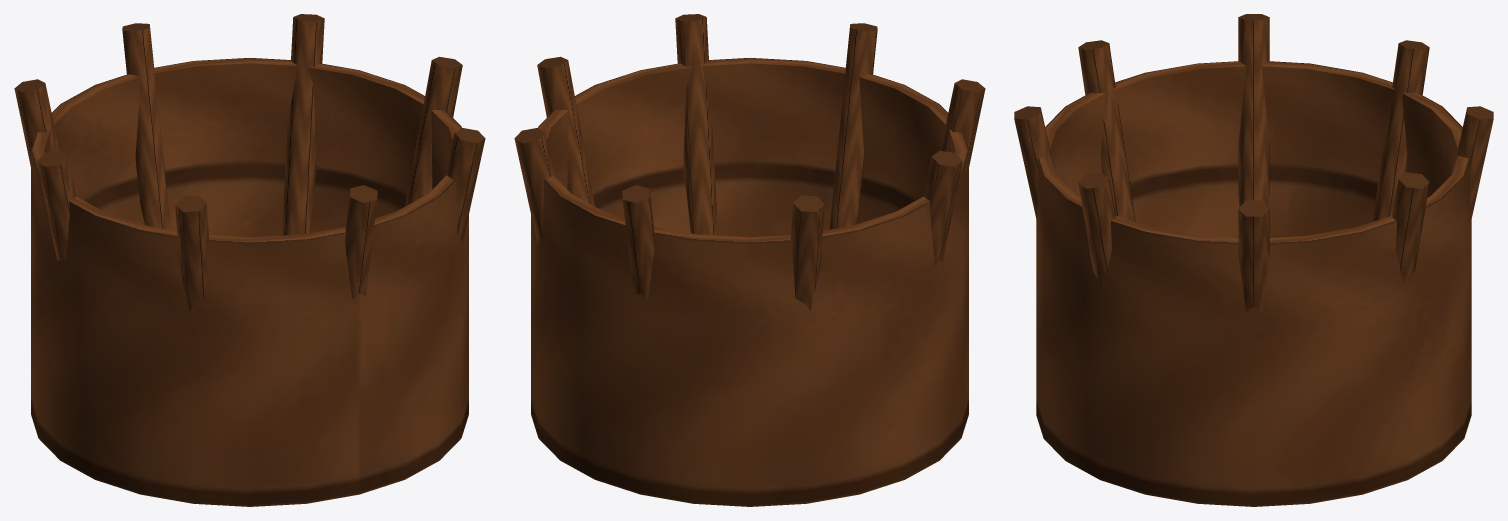
File: primitive-crafting-workshop-basket-form-f693e271__21573.glb
The picture shows the model from 3 angles, left to right: view 1: azimuth 30°, elevation 25°; view 2: azimuth 150°, elevation 25°; view 3: azimuth 270°, elevation 25°; orthographic projection.
Parts seen in each view (by area): view 1: basket-form; view 2: basket-form; view 3: basket-form.
Part boxes in pixels (left/top/right/bottom): basket-form: left=14, top=14, right=485, bottom=506; basket-form: left=514, top=14, right=985, bottom=506; basket-form: left=1014, top=14, right=1493, bottom=506.
Bounding box in the file's own units: 0.5506 × 0.4069 × 0.5506.
Materials: 1 (1 with a texture image).
